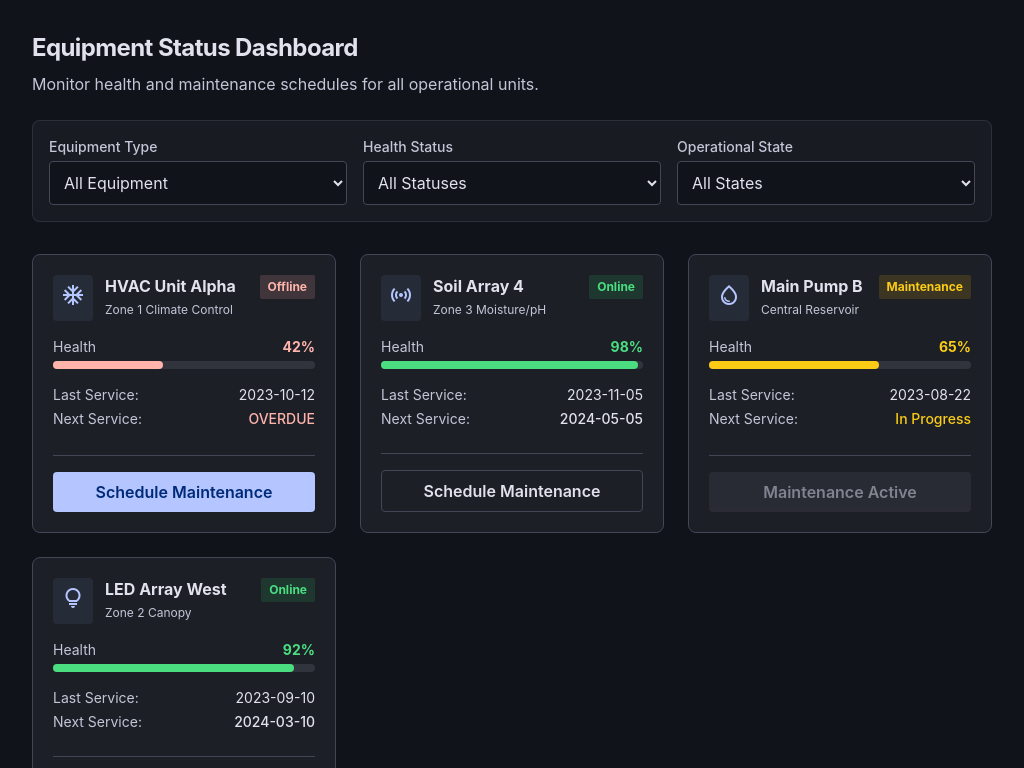
EquipmentStatus › filters by health status
Select "Optimal (> 80%)" in the dropdown labelled "Health Status" at (512, 183), box [363,161,661,205]
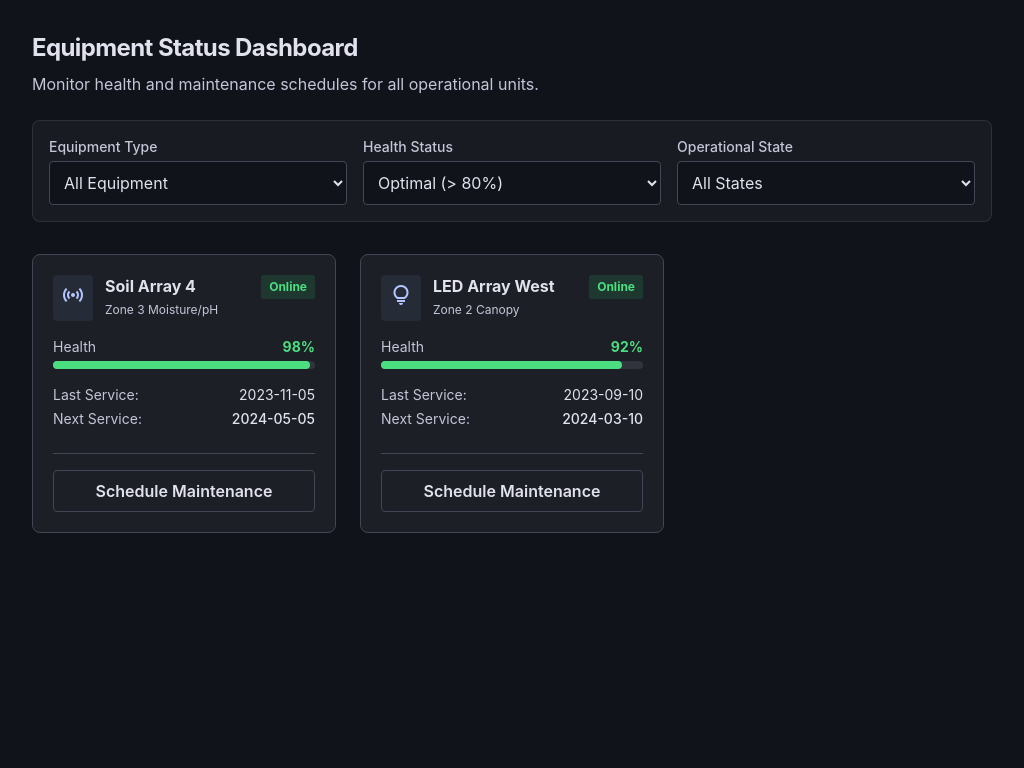
Expected: the heading "Soil Array 4" is shown, [105,276,196,296]
Now the heading "HVAC Unit Alpha" is gone
